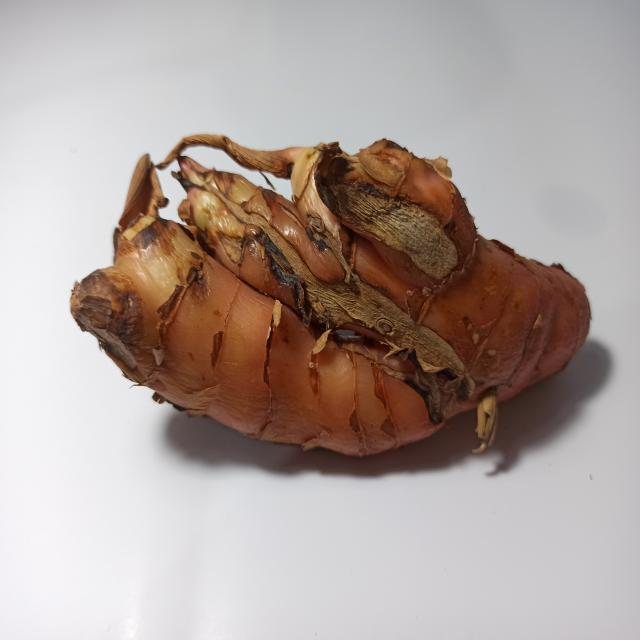ginger: (125, 146, 554, 418)
